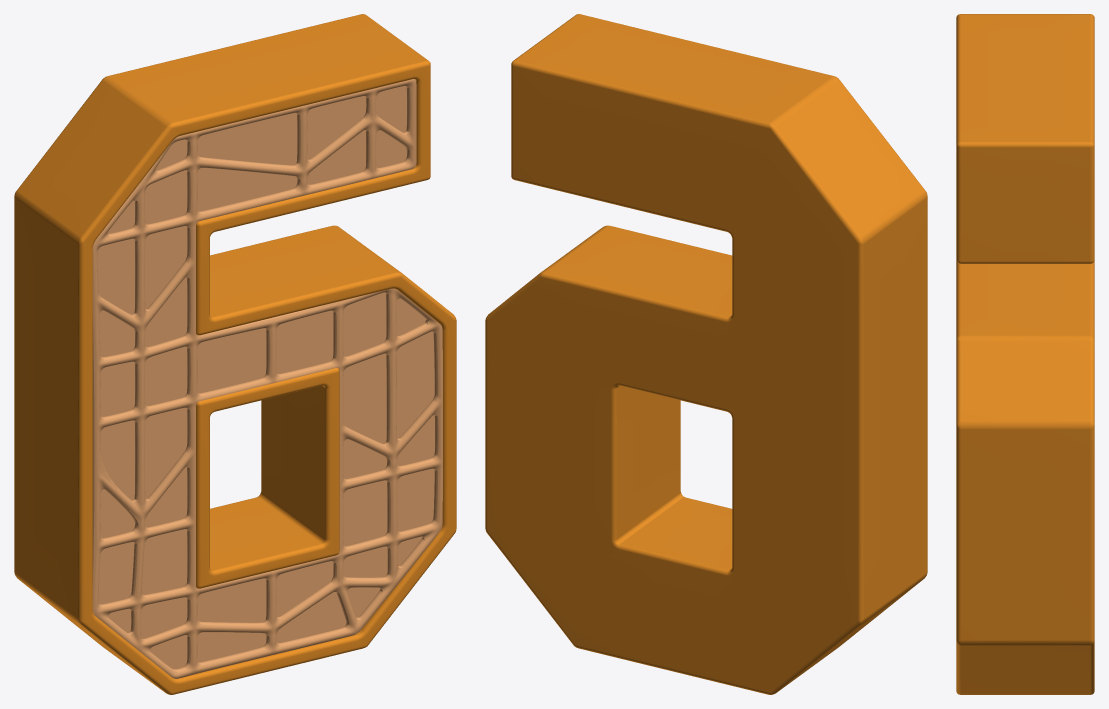
The picture shows the model from 3 angles, left to right: view 1: azimuth 30°, elevation 25°; view 2: azimuth 150°, elevation 25°; view 3: azimuth 270°, elevation 25°; orthographic projection. The views are drawn at different scales.
Parts seen in each view (by area): view 1: Text.033, Plane.040, Plane.074; view 2: Text.033; view 3: Text.033.
Boxes of the visible parts, x1,y1,x2,y2 form: Text.033: [14, 14, 456, 694]; Plane.040: [97, 86, 434, 669]; Plane.074: [92, 79, 442, 678]; Text.033: [485, 14, 927, 694]; Text.033: [956, 14, 1094, 694].
Size of the model in its own units: 2.12 by 3.07 by 0.658.
